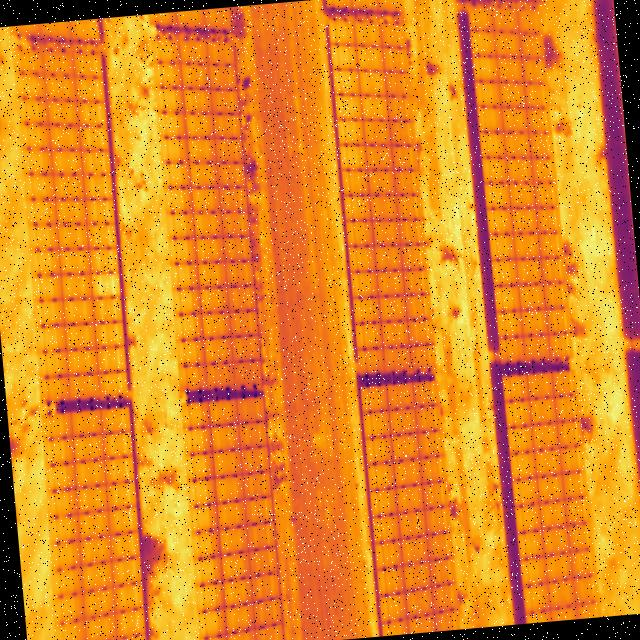Hotspot: (94, 272, 119, 296)
